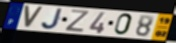0: (113, 13, 133, 37)
4: (88, 11, 107, 35)
8: (134, 14, 155, 38)
J: (40, 8, 65, 31)
V: (23, 5, 45, 30)
Z: (63, 9, 90, 33)
